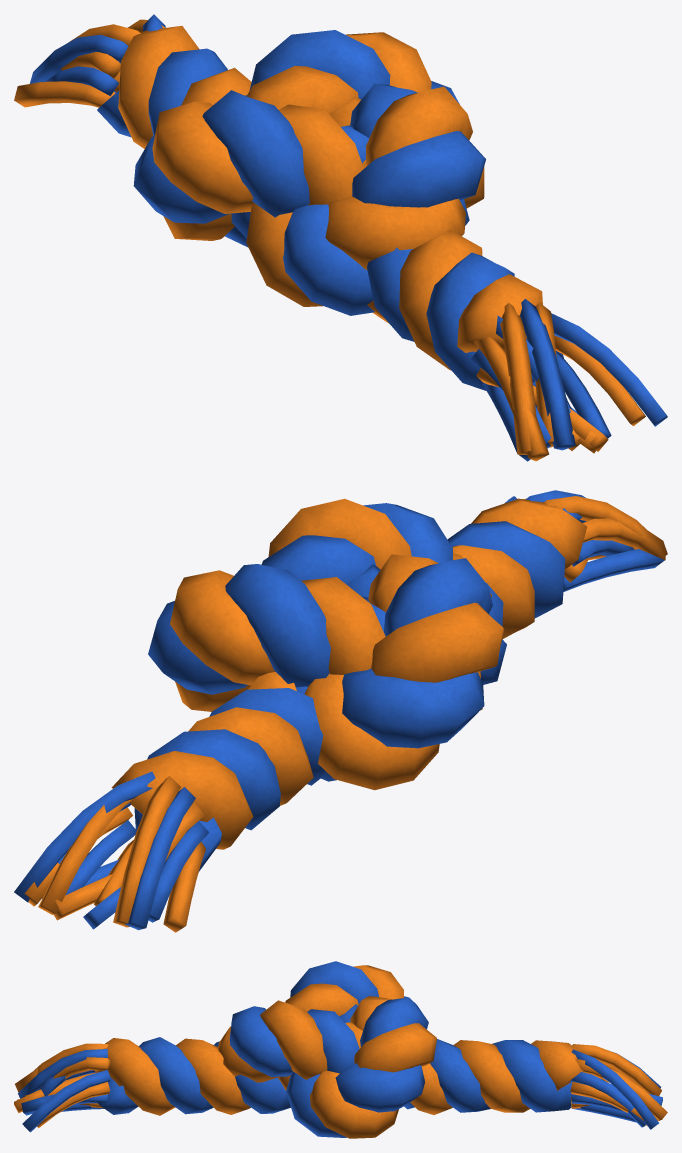
File: toy_rope_knot.gltf
3 views of the same model, one above another, from view 1: azimuth 30°, elevation 25°; view 2: azimuth 150°, elevation 25°; view 3: azimuth 270°, elevation 25° (orthographic). The views are drawn at different scales.
Parts seen in each view (by area): view 1: toy_rope_knot; view 2: toy_rope_knot; view 3: toy_rope_knot.
Part boxes in pixels (<box>): toy_rope_knot: <box>14,14,667,461</box>; toy_rope_knot: <box>14,490,667,932</box>; toy_rope_knot: <box>14,961,667,1138</box>.
Size of the model in its own units: 0.2691 by 0.1619 by 0.7759.
2 materials, 2 textured.
